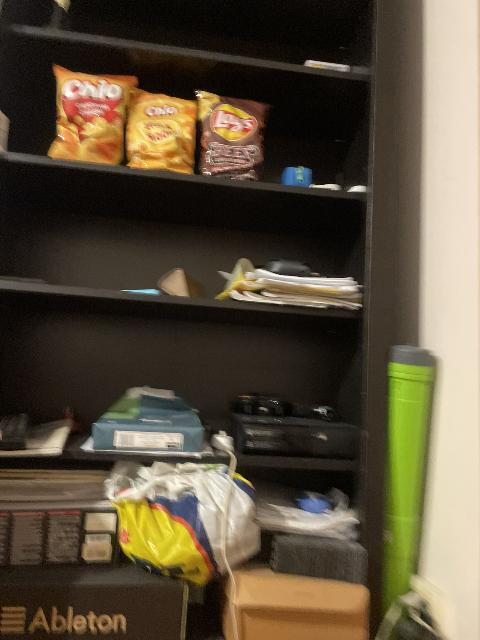Chio Cascaval 125g: (45, 65, 137, 166)
Chio Hula Hoops Cheese 70g: (123, 87, 199, 172)
Lays Beef Grilled Ribs 125g: (195, 92, 271, 179)
